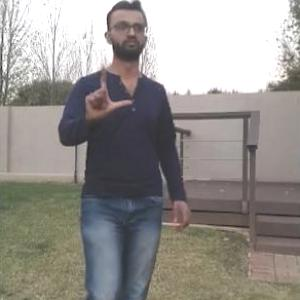land_hand: (82, 56, 136, 119)
